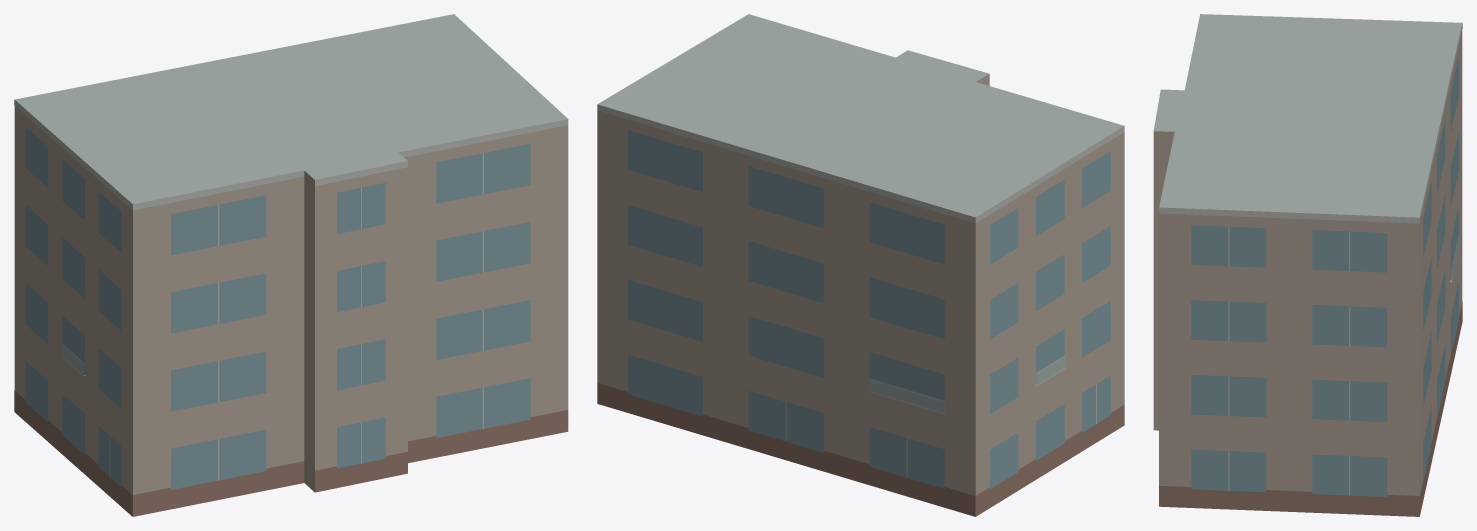
Rendered from survey-upis-32704972.glb.
3 renders of one model, left to right at view 1: azimuth 30°, elevation 25°; view 2: azimuth 150°, elevation 25°; view 3: azimuth 270°, elevation 25°, orthographic. The views are drawn at different scales.
Parts seen in each view (by area): view 1: survey-upis-32704972.tmp; view 2: survey-upis-32704972.tmp; view 3: survey-upis-32704972.tmp.
Boxes of the visible parts, bbox=[...] form: survey-upis-32704972.tmp: bbox=[14, 14, 568, 516]; survey-upis-32704972.tmp: bbox=[597, 14, 1124, 516]; survey-upis-32704972.tmp: bbox=[1153, 14, 1462, 516].
Bounding box in the file's own units: 17.82 × 12.2 × 11.42.
